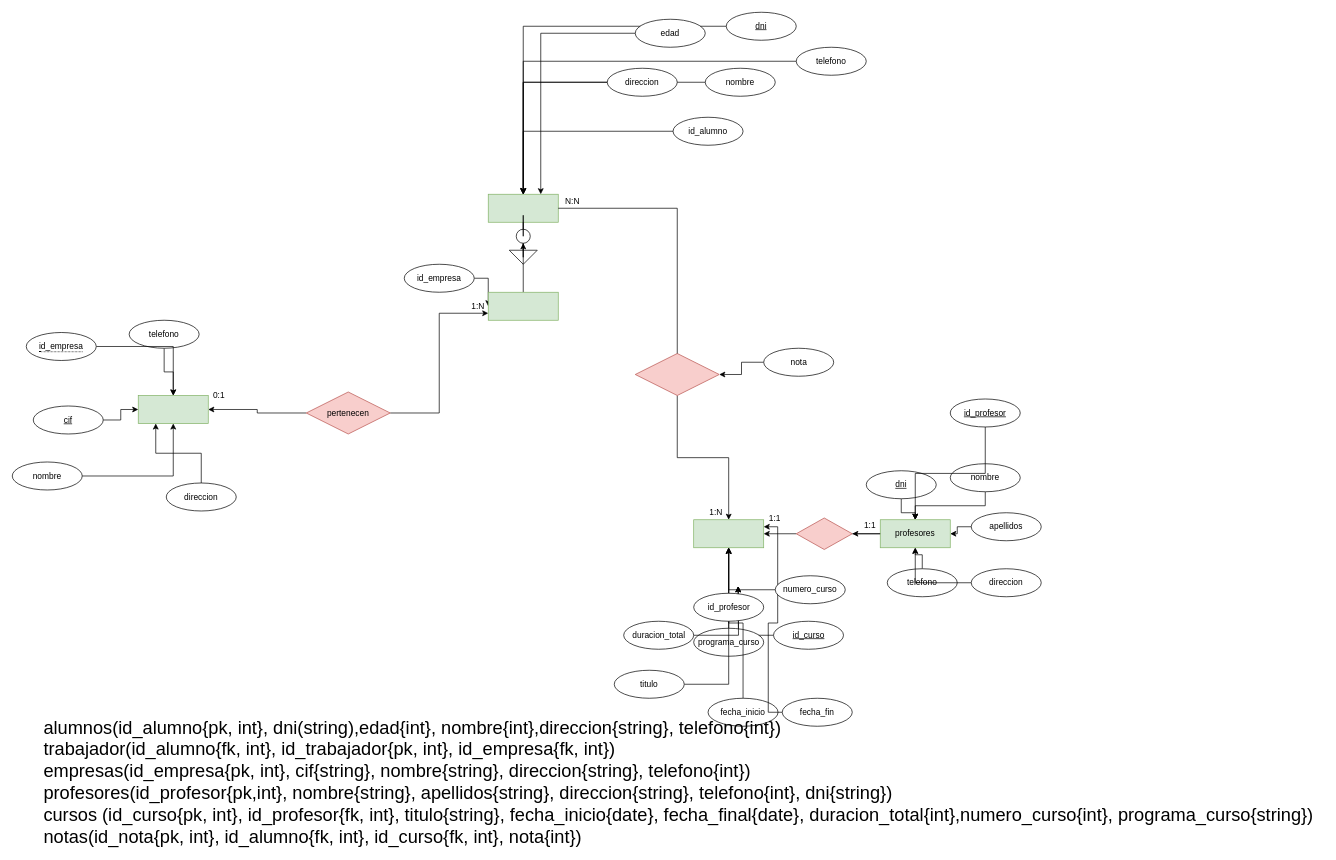
The diagram is 1336 pixels wide and 860 high, and some of its shapes have lost their labels. The box of each missing label's shape, as (x1, y1, x2, y2) in pixels:
alumnos: (488, 194, 558, 222)
cursos: (693, 519, 764, 548)
empresas: (138, 395, 208, 424)
imparten: (796, 517, 852, 550)
participan: (635, 353, 719, 396)
trabajador: (488, 292, 558, 320)
